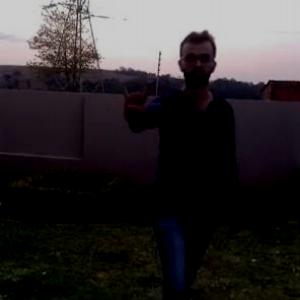takeoff-hand: (114, 79, 152, 120)
